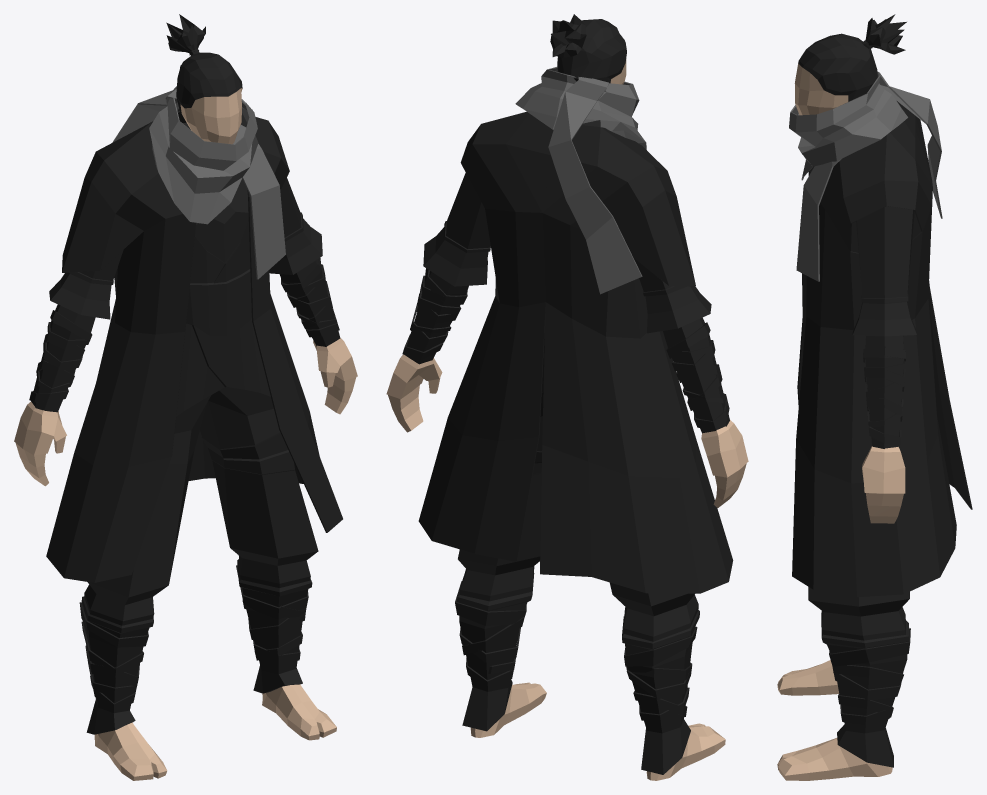
File: lowPolySamurai.fbx
The picture shows the model from 3 angles, left to right: view 1: azimuth 30°, elevation 25°; view 2: azimuth 150°, elevation 25°; view 3: azimuth 270°, elevation 25°; orthographic projection. The views are drawn at different scales.
Visible parts, largest first — view 1: jacket; view 2: jacket; view 3: jacket.
Part boxes in pixels (x1,y1,x2,y2): jacket: (14, 14, 357, 780); jacket: (386, 14, 748, 780); jacket: (777, 14, 972, 780).
Size of the model in its own units: 231 by 473 by 117.
